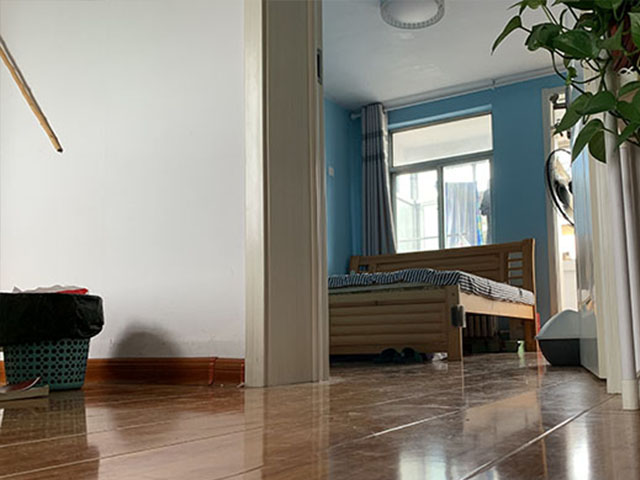bed: (328, 237, 541, 363)
book: (1, 375, 51, 401)
curtain: (358, 103, 395, 254)
slippers: (364, 345, 432, 364)
trashcan: (2, 284, 107, 393)
